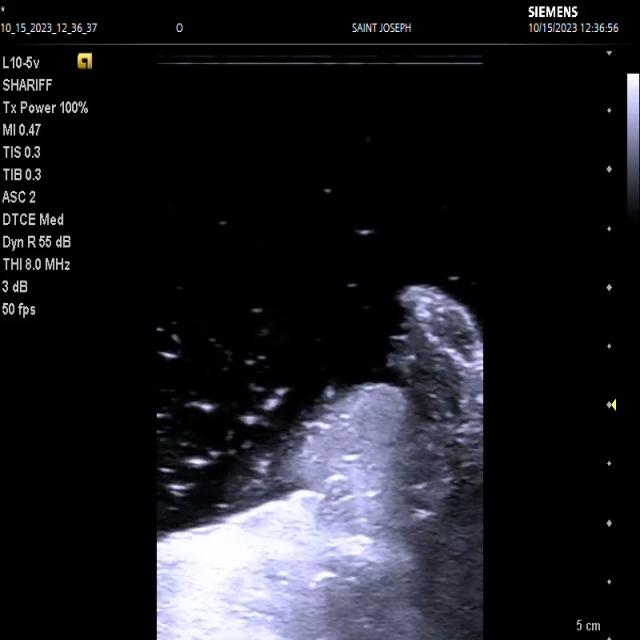tissue: (157, 286, 482, 640)
